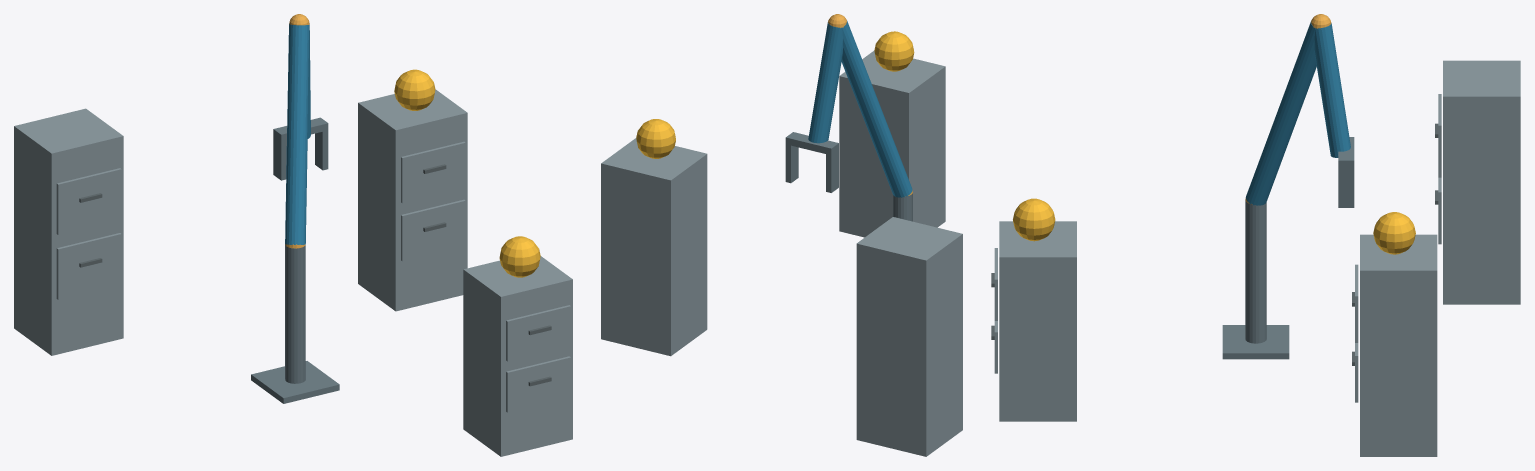
3 renders of one model, left to right at view 1: azimuth 30°, elevation 25°; view 2: azimuth 150°, elevation 25°; view 3: azimuth 270°, elevation 25°, orthographic. The views are drawn at different scales.
Visible parts, largest first — view 1: cabinet_3 body, cabinet_2 body, cabinet_1 body, moving link 1, cabinet_3 drawer front, cabinet_3 drawer front.001, cabinet_2 drawer front, cabinet_2 drawer front.001, fixed post, cabinet_1 drawer front.001, cabinet_1 drawer front, pedestal (+2 smaller); view 2: cabinet_3 body, cabinet_2 body, cabinet_1 body, moving link 1, moving link 2, released ball_1, ball ball_2, gripper bridge, gripper finger 1, gripper finger -1, fixed post; view 3: cabinet_3 body, cabinet_2 body, cabinet_1 body, moving link 1, fixed post, moving link 2, pedestal, released ball_1, ball ball_2, gripper finger 1.
Boxes of the visible parts, box(x1,y1,x2,y2) form: cabinet_3 body: box(14, 108, 123, 355); cabinet_2 body: box(358, 89, 467, 311); cabinet_1 body: box(463, 256, 572, 456); moving link 1: box(285, 24, 309, 244); cabinet_3 drawer front: box(56, 233, 121, 299); cabinet_3 drawer front.001: box(56, 168, 121, 234); cabinet_2 drawer front: box(401, 199, 465, 261); cabinet_2 drawer front.001: box(401, 141, 465, 203); fixed post: box(285, 244, 305, 383); cabinet_1 drawer front.001: box(506, 305, 570, 361); cabinet_1 drawer front: box(506, 356, 570, 412); pedestal: box(251, 361, 339, 403); cabinet_3 body: box(856, 217, 962, 456); cabinet_2 body: box(601, 138, 707, 356); cabinet_1 body: box(839, 51, 945, 237); moving link 1: box(841, 21, 912, 197); moving link 2: box(808, 22, 843, 143); released ball_1: box(874, 31, 914, 71); ball ball_2: box(636, 119, 675, 158); gripper bridge: box(785, 132, 838, 155); gripper finger 1: box(785, 144, 798, 183); gripper finger -1: box(826, 150, 838, 192); fixed post: box(893, 193, 912, 221); cabinet_3 body: box(1443, 60, 1520, 304); cabinet_2 body: box(1360, 234, 1437, 456); cabinet_1 body: box(999, 221, 1076, 421); moving link 1: box(1245, 22, 1316, 205); fixed post: box(1245, 200, 1266, 343); moving link 2: box(1314, 23, 1350, 157); pedestal: box(1222, 325, 1289, 359); released ball_1: box(1013, 198, 1055, 241); ball ball_2: box(1373, 212, 1415, 254); gripper finger 1: box(1338, 168, 1354, 207).
Size of the model in its own units: 1.67 by 1.44 by 1.98.
